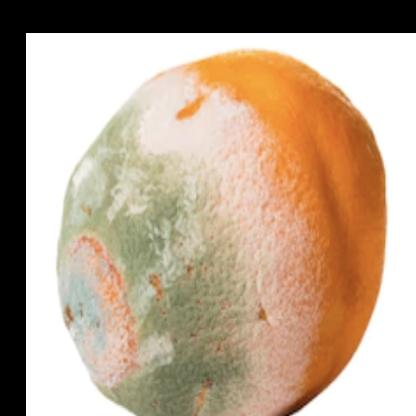rotten: (57, 49, 388, 416)
